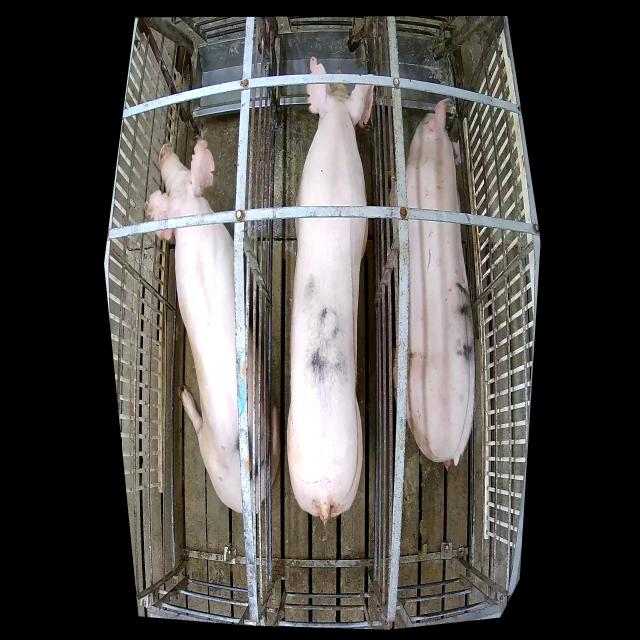pig: (144, 140, 281, 514), (287, 58, 376, 529), (389, 100, 475, 470)
